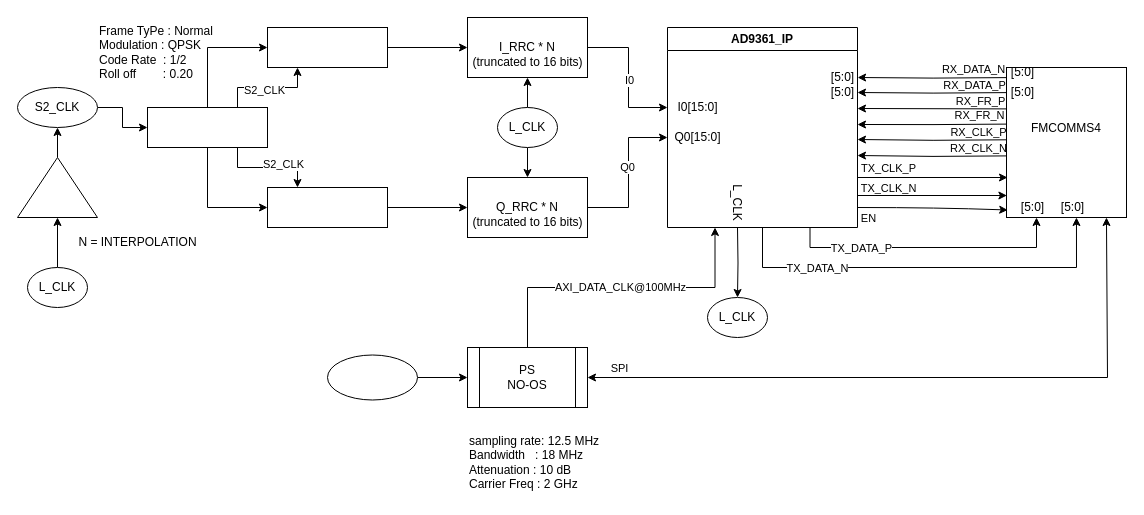
This 1144x515 diagram has some shape labels left out. Each missing label, with the centre of its shape:
"CLK / N" belongs at (x=57, y=187).
"DVBS2_BLOCK" belongs at (x=207, y=127).
"I_DATA" belongs at (x=327, y=47).
"Q_DATA" belongs at (x=327, y=207).
"SYS_CLK 33.33MHz" belongs at (x=372, y=377).
